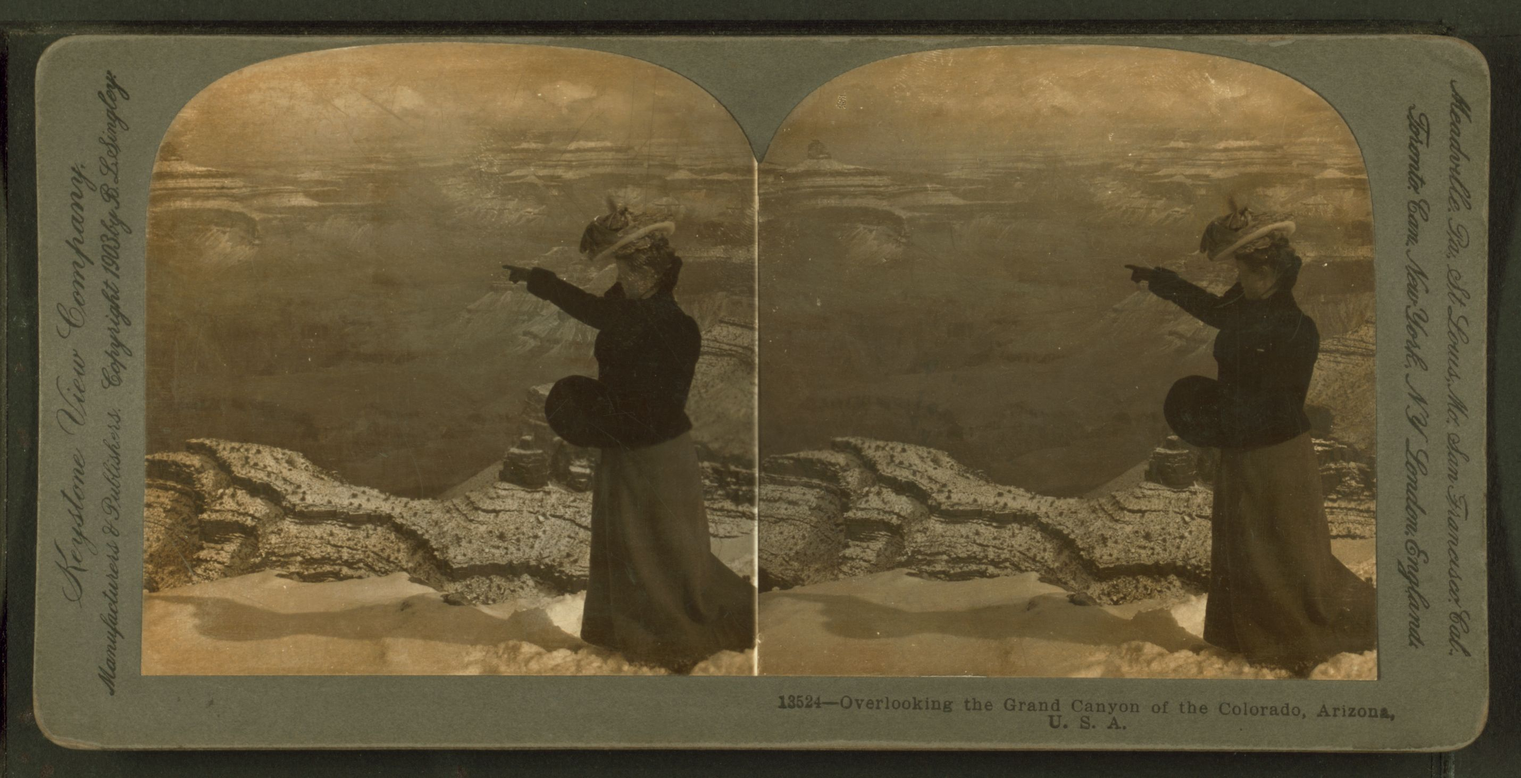half_image: (759, 46, 1377, 682), (142, 44, 755, 675)
